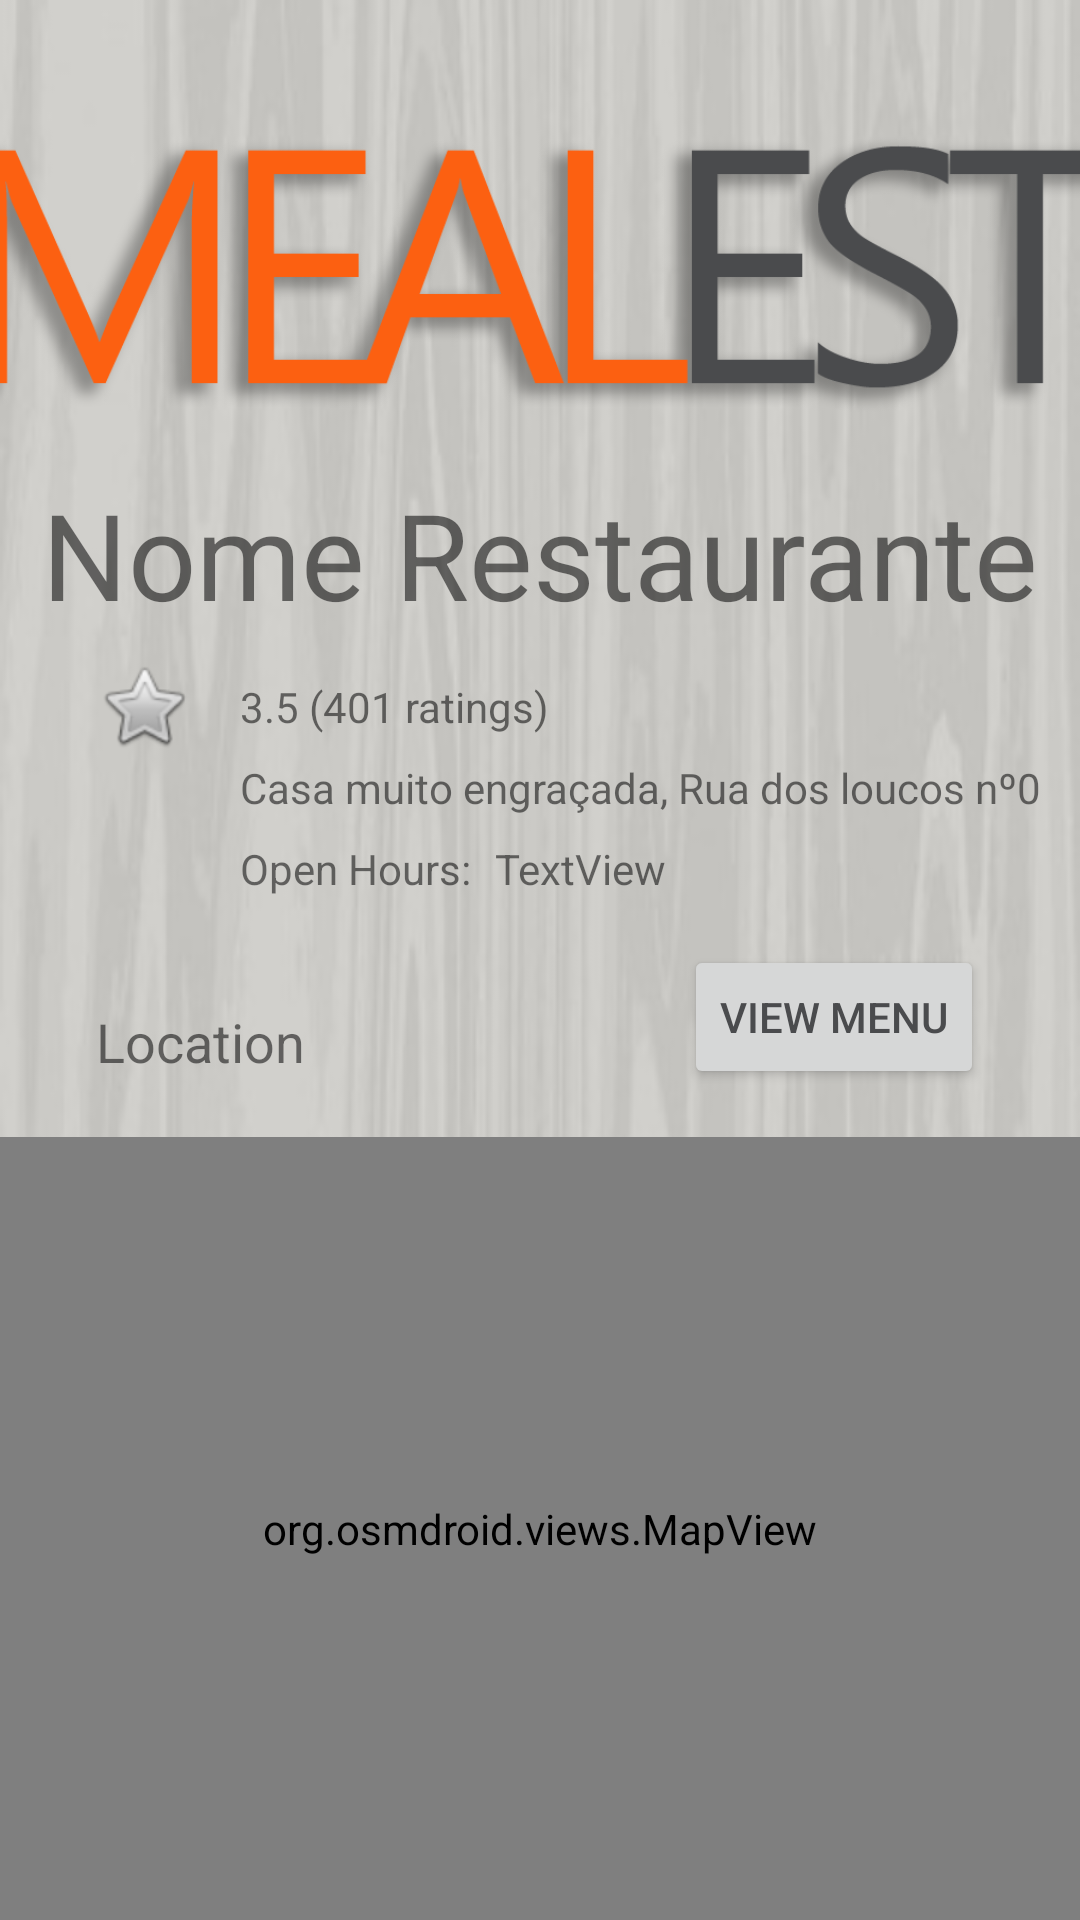

Icons on this 1080w x 1920h Android screen, each with the point to tap as (x=x, y=y):
star: (x=145, y=707)
